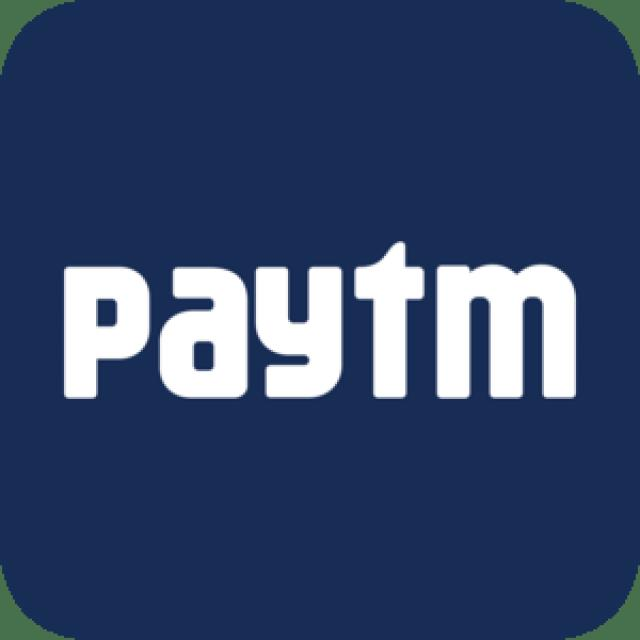fully_visible: (54, 242, 594, 410)
